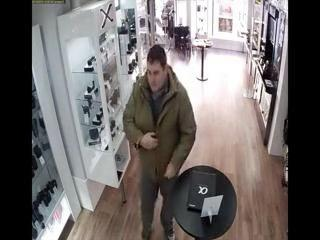shoplifting: (124, 97, 167, 149)
